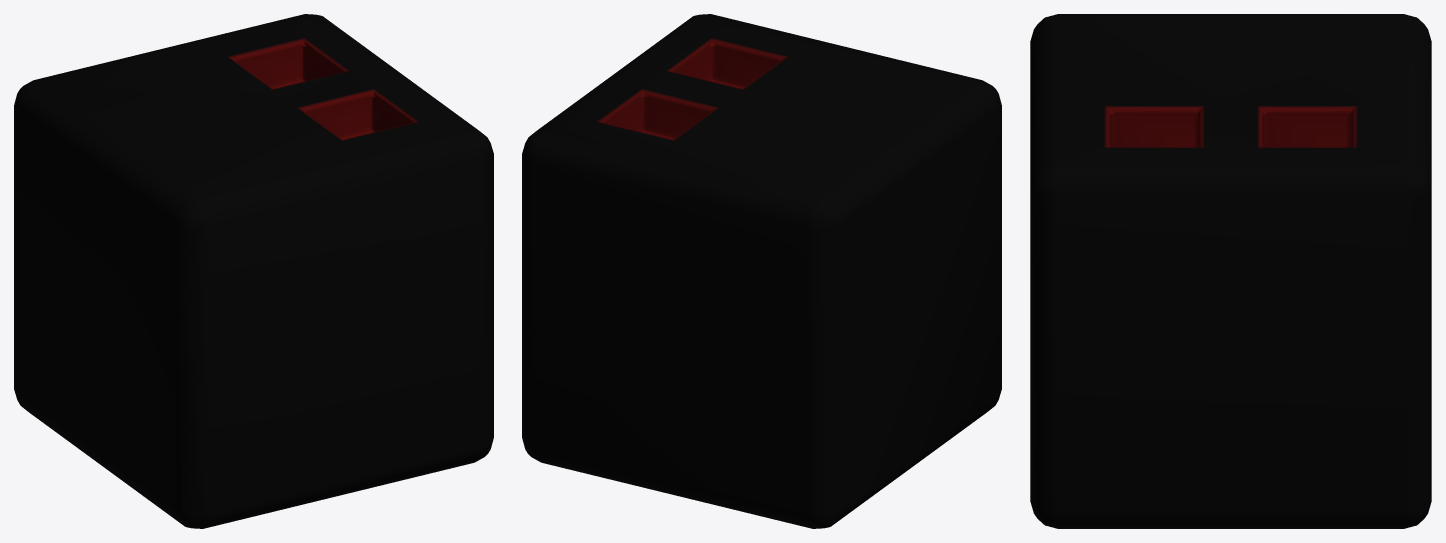
File: SM_VoxelHead.glb
The picture shows the model from 3 angles, left to right: view 1: azimuth 30°, elevation 25°; view 2: azimuth 150°, elevation 25°; view 3: azimuth 270°, elevation 25°; orthographic projection. The views are drawn at different scales.
Parts seen in each view (by area): view 1: SM_VoxelHead; view 2: SM_VoxelHead; view 3: SM_VoxelHead.
Boxes of the visible parts, bbox=[...] form: SM_VoxelHead: bbox=[14, 14, 493, 528]; SM_VoxelHead: bbox=[522, 14, 1001, 528]; SM_VoxelHead: bbox=[1030, 14, 1431, 528].
Bounding box in the file's own units: 1 × 1 × 1.
